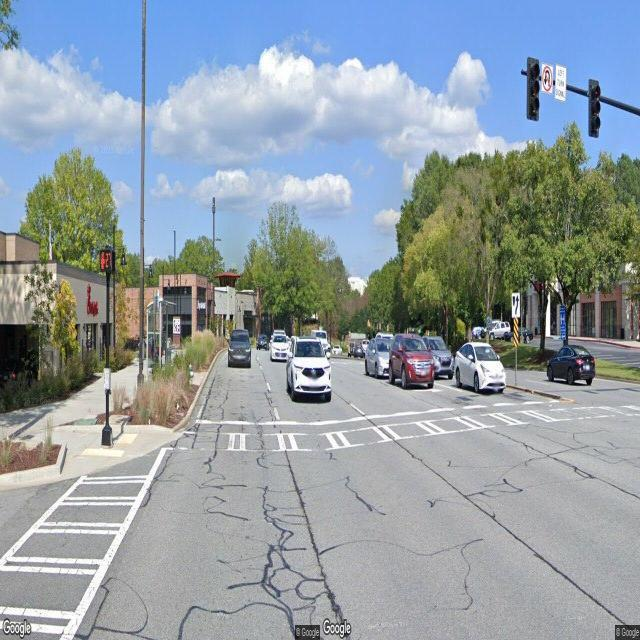shelter: (146, 300, 177, 384)
